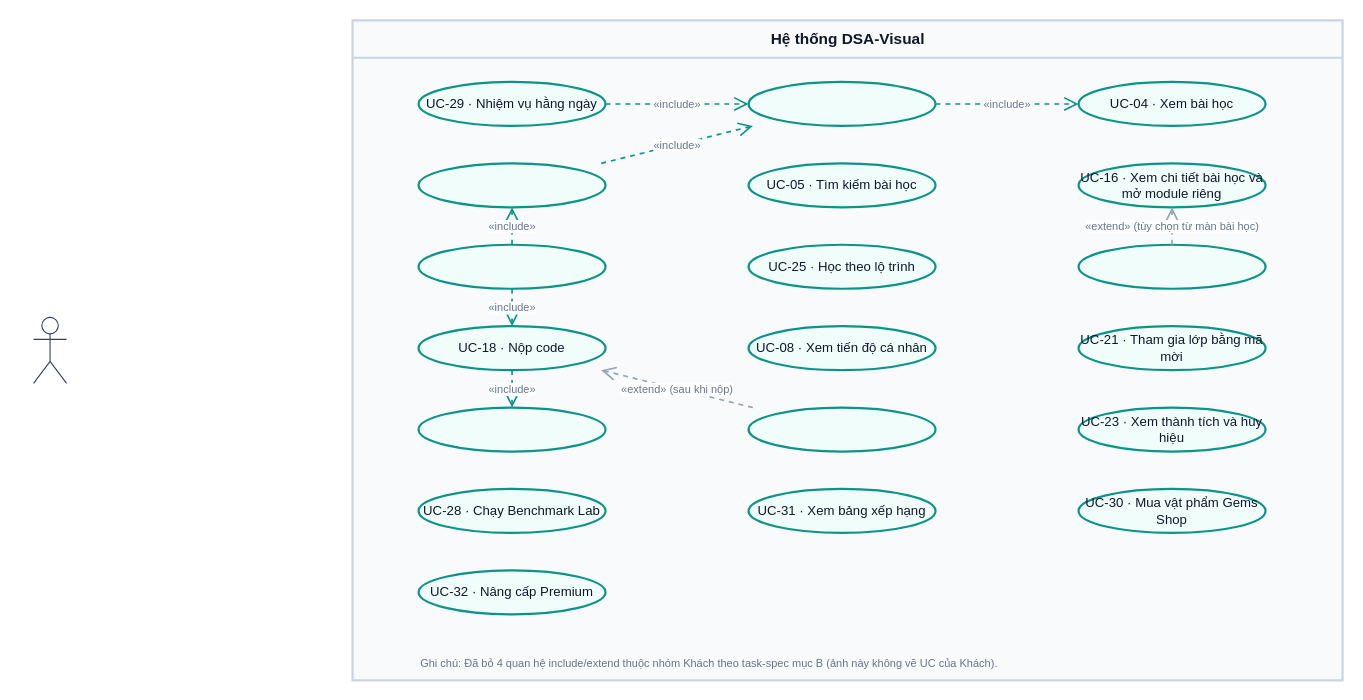
This 1363x700 diagram has some shape labels left out. Here are the shapes that lost their labels. From the top down, the centre of each, then its label:
the point at 841,103: UC-01 · Chạy mô phỏng giải thuật
the point at 511,185: UC-06 · Làm bài tập
the point at 511,266: UC-27 · Làm bài kiểm tra cuối lộ trình
the point at 1171,266: UC-24 · Gửi phản hồi và báo lỗi
the point at 49,349: Người học
the point at 511,429: UC-17 · Chạy code trong sandbox
the point at 841,429: UC-19 · Xem lịch sử bài làm
